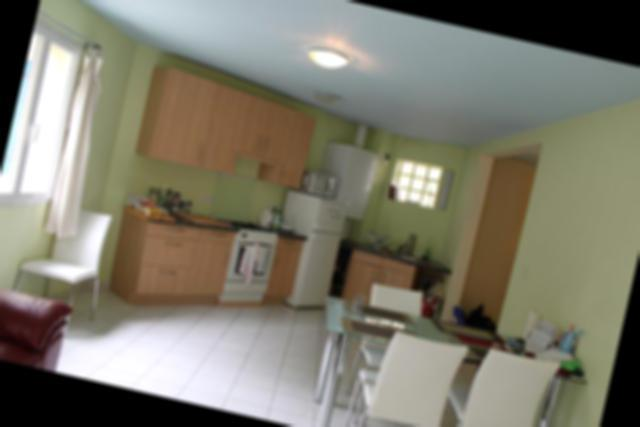Lavaplatos: (372, 231, 425, 265)
